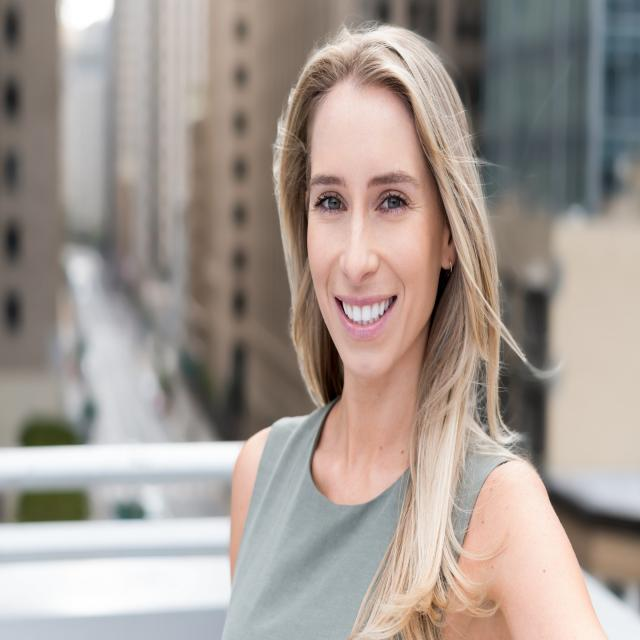nothing: (270, 0, 486, 230)
